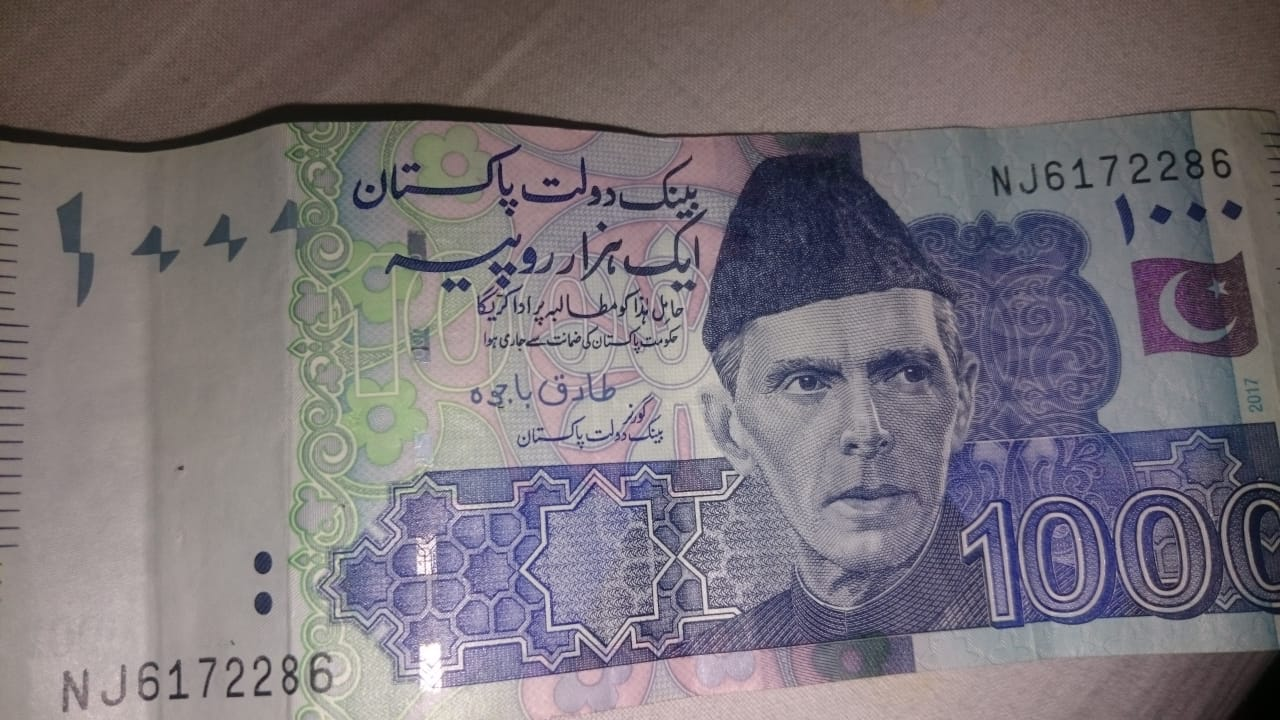1000 rupee: (19, 92, 1280, 713)
